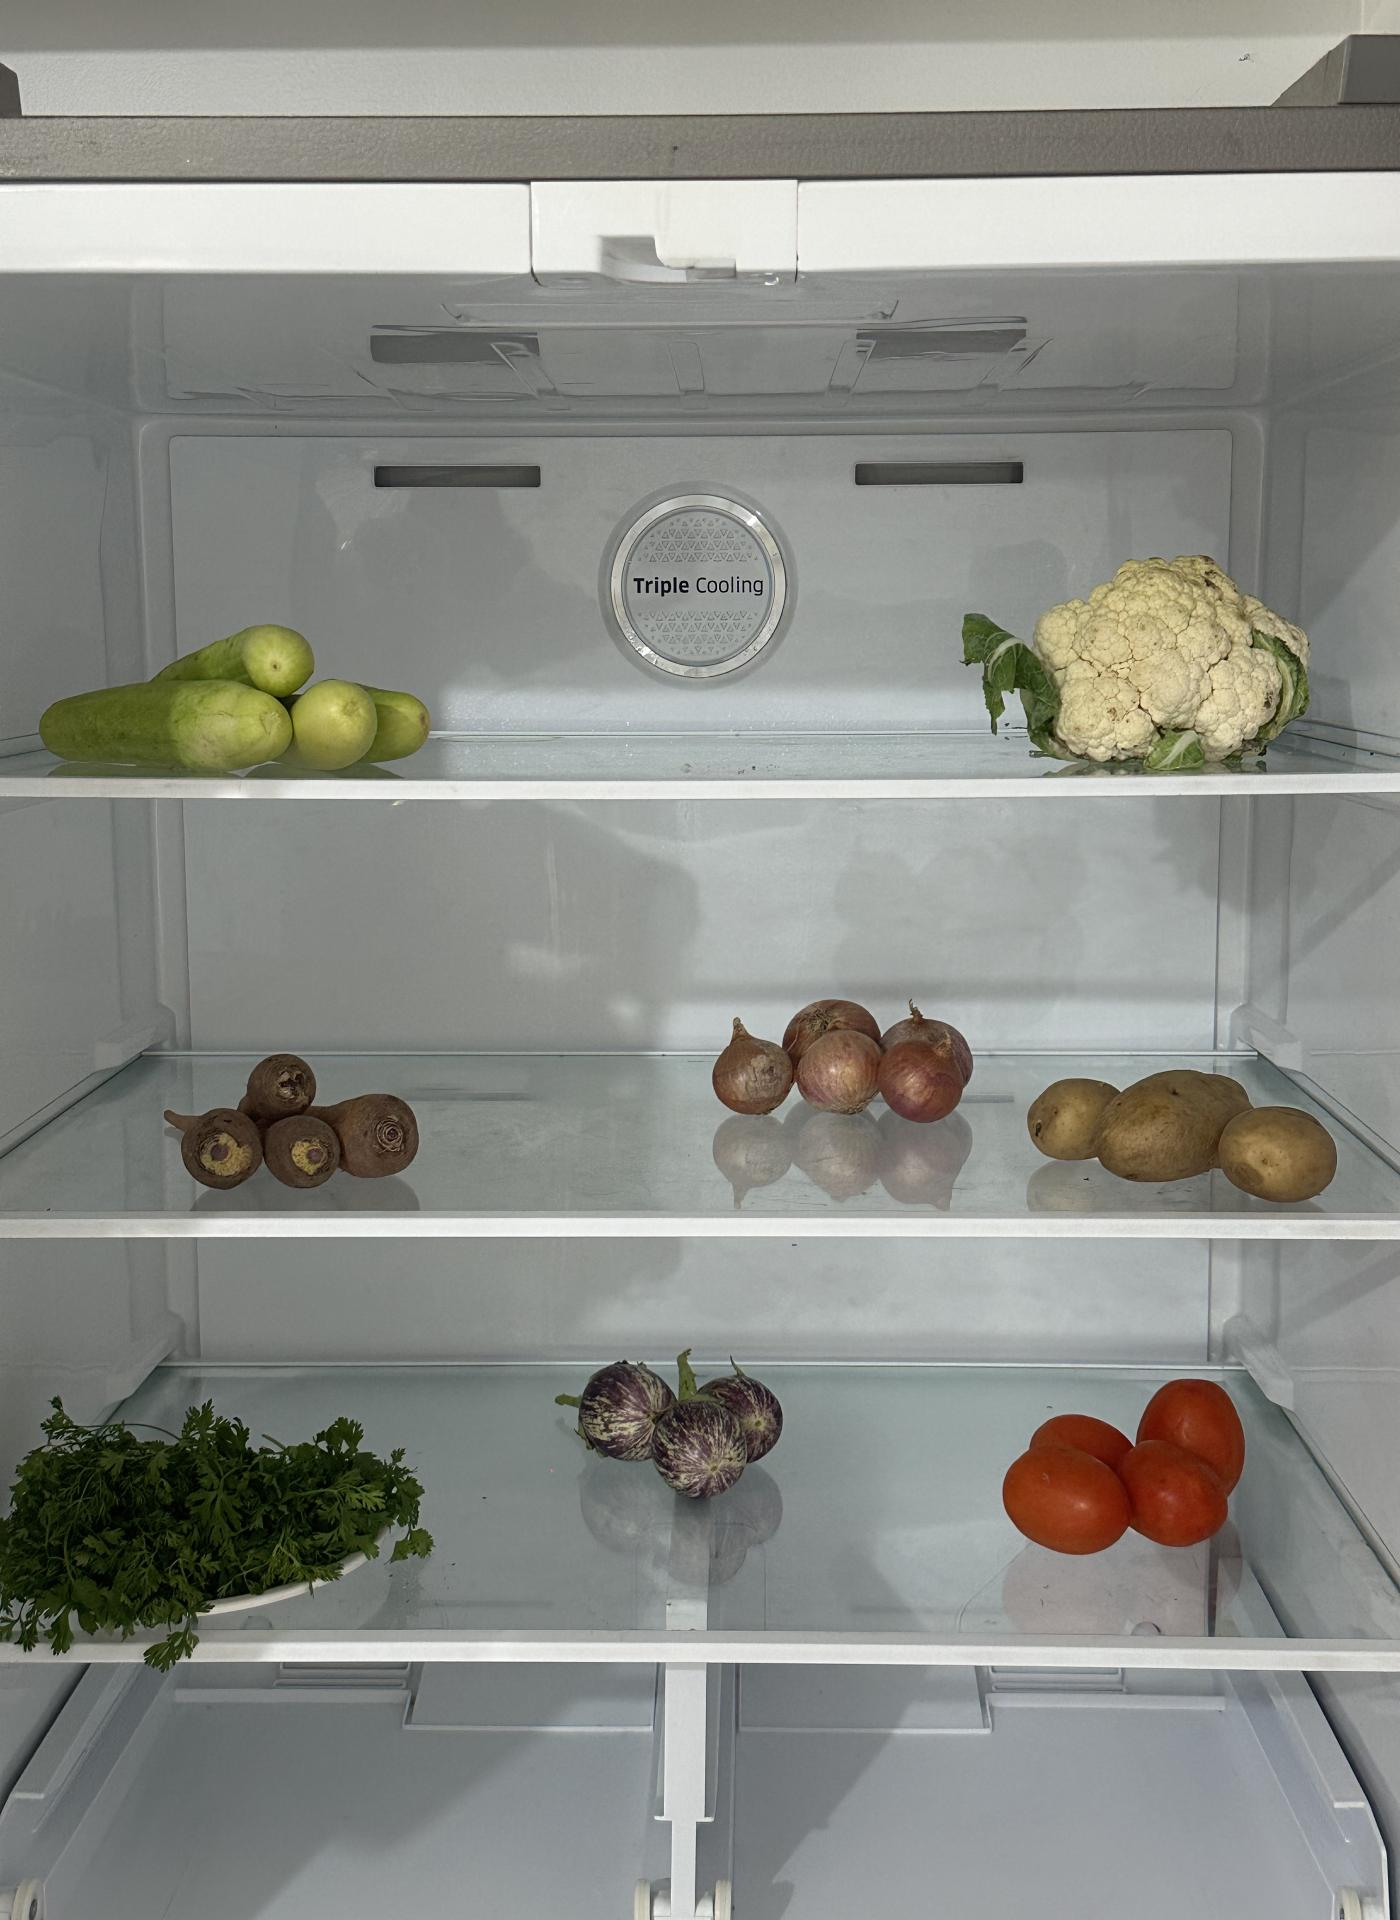carrots: (152, 1043, 429, 1196)
cauliflower: (994, 546, 1311, 756)
coriander: (31, 1407, 414, 1641)
cucumber: (43, 622, 431, 775)
onion: (717, 988, 975, 1130)
potato: (1017, 1061, 1336, 1204)
tomato: (994, 1365, 1249, 1561)
